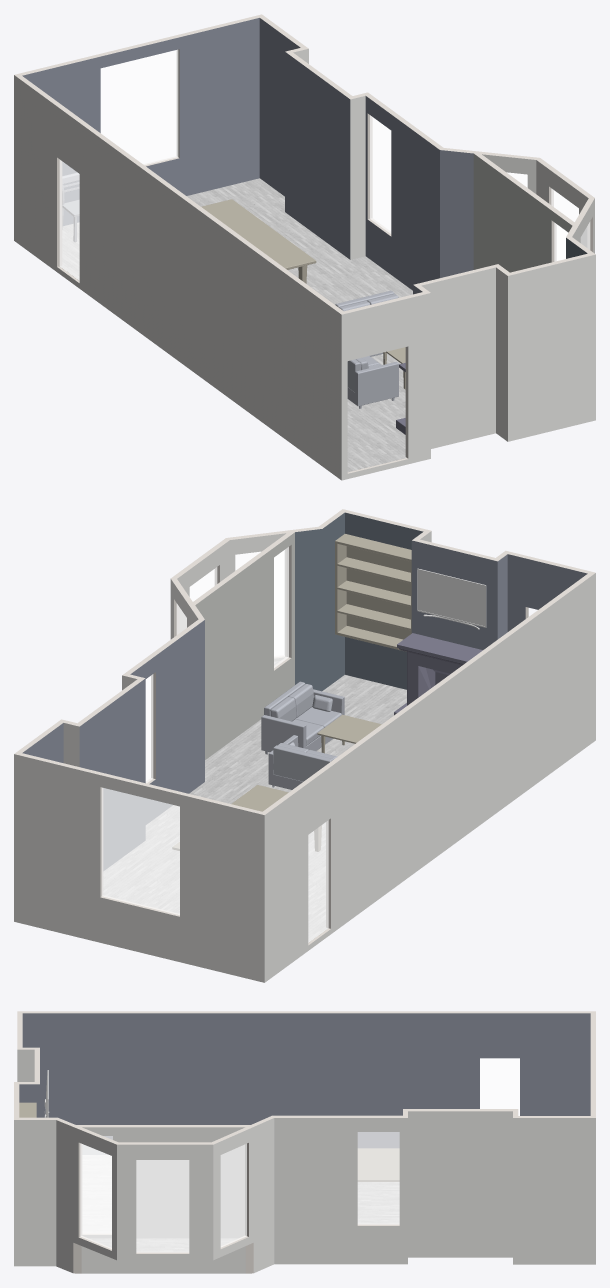
File: Elks_Lodge_Pool_Room.glb
3 views of the same model, one above another, from view 1: azimuth 30°, elevation 25°; view 2: azimuth 150°, elevation 25°; view 3: azimuth 270°, elevation 25° (orthographic). The views are drawn at different scales.
Parts seen in each view (by area): view 1: wall_4, wall_33, wall_16, floor_Pool_Room, wall_11, wall_31, wall_43, wall_14, window_1, window_7, wall_35, wall_55 (+16 smaller); view 2: wall_4, wall_7, floor_Pool_Room, wall_35, window_1, window_7, wall_43, storage_shelf0, wall_31, wall_41, wall_37, sofa_rect2 (+23 smaller); view 3: wall_27, wall_12, wall_6, wall_18, wall_8, wall_15, wall_3, window_5, window_11, window_4, window_10, wall_13 (+21 smaller).
Boxes of the visible parts, bbox=[...] form: wall_4: bbox=[14, 75, 341, 480]; wall_33: bbox=[22, 18, 259, 225]; wall_16: bbox=[508, 254, 595, 441]; floor_Pool_Room: bbox=[60, 178, 412, 471]; wall_11: bbox=[421, 267, 495, 448]; wall_31: bbox=[285, 52, 350, 259]; wall_43: bbox=[365, 96, 439, 290]; wall_14: bbox=[341, 293, 430, 480]; window_1: bbox=[101, 50, 177, 164]; window_7: bbox=[101, 50, 177, 164]; wall_35: bbox=[473, 154, 572, 272]; wall_55: bbox=[259, 18, 300, 196]; wall_4: bbox=[264, 573, 595, 982]; wall_7: bbox=[14, 754, 264, 982]; floor_Pool_Room: bbox=[103, 675, 406, 942]; wall_35: bbox=[195, 532, 294, 759]; window_1: bbox=[102, 788, 179, 914]; window_7: bbox=[102, 788, 179, 914]; wall_43: bbox=[130, 620, 204, 824]; storage_shelf0: bbox=[335, 534, 411, 651]; wall_31: bbox=[79, 678, 145, 870]; wall_41: bbox=[411, 540, 497, 649]; wall_37: bbox=[295, 529, 322, 691]; sofa_rect2: bbox=[261, 681, 344, 754]; wall_27: bbox=[22, 1013, 590, 1147]; wall_12: bbox=[274, 1118, 407, 1264]; wall_6: bbox=[408, 1111, 512, 1257]; wall_18: bbox=[513, 1118, 595, 1264]; wall_8: bbox=[81, 1127, 245, 1273]; wall_15: bbox=[117, 1144, 213, 1260]; wall_3: bbox=[14, 1120, 56, 1266]; window_5: bbox=[136, 1160, 188, 1252]; window_11: bbox=[136, 1160, 188, 1252]; window_4: bbox=[358, 1132, 399, 1224]; window_10: bbox=[358, 1132, 399, 1224]; wall_13: bbox=[253, 1118, 274, 1272].
Size of the model in its own units: 6.09 by 3.12 by 11.23.
52 materials, 2 textured.
